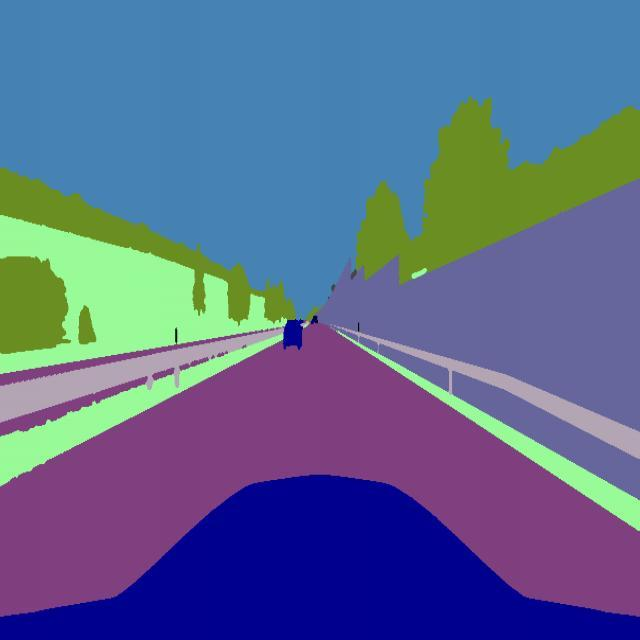safe: (280, 318, 306, 351)
